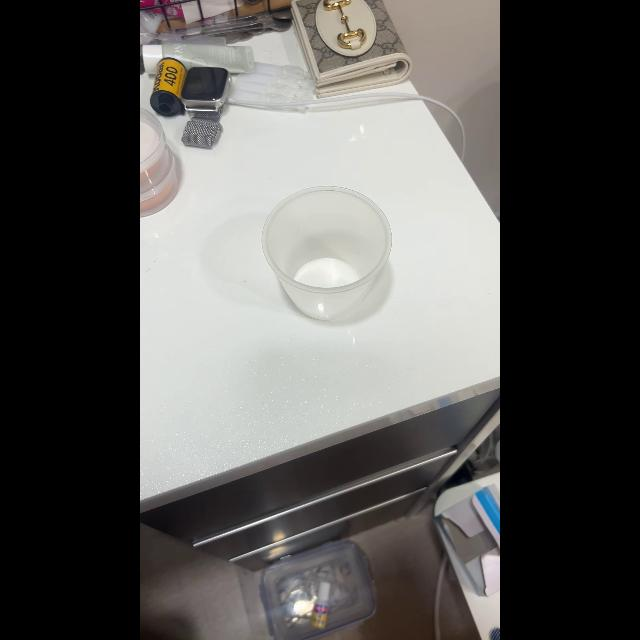clean: (261, 184, 393, 320)
